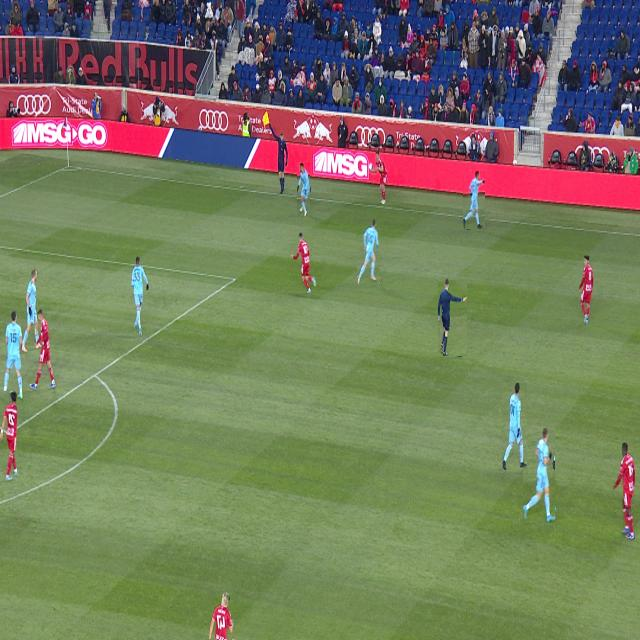player: (524, 429, 555, 523), (502, 384, 527, 470), (613, 443, 635, 540), (30, 309, 56, 391), (3, 311, 23, 399), (291, 233, 316, 294), (0, 392, 17, 481), (22, 269, 39, 353), (358, 220, 379, 285), (131, 257, 148, 336), (463, 171, 485, 229), (209, 593, 234, 639), (579, 255, 594, 325), (298, 163, 310, 216)
referee: (438, 279, 467, 356)
